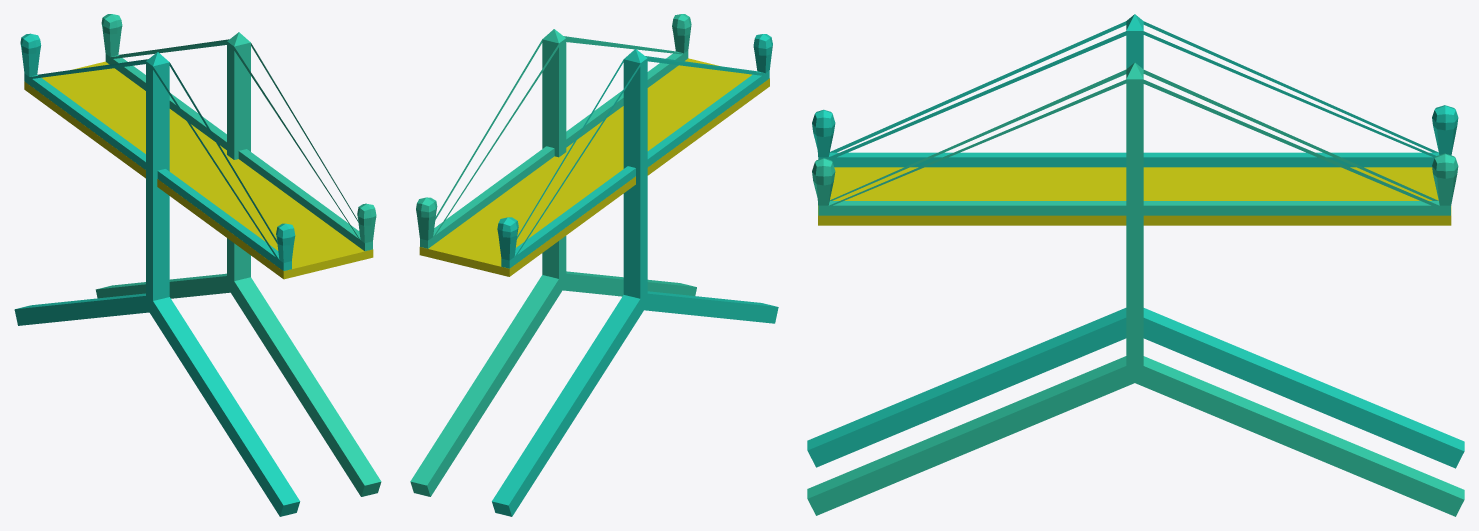
The model's file is Puente.fbx.
The picture shows the model from 3 angles, left to right: view 1: azimuth 30°, elevation 25°; view 2: azimuth 150°, elevation 25°; view 3: azimuth 270°, elevation 25°; orthographic projection. The views are drawn at different scales.
Visible parts, largest first — view 1: Cube.002, Cube.001, Cube; view 2: Cube.002, Cube.001, Cube; view 3: Cube.001, Cube.002, Cube.
Part boxes in pixels (box(x1,y1,x2,y2)): Cube.002: box(14, 33, 300, 516); Cube.001: box(95, 14, 381, 496); Cube: box(24, 61, 373, 279); Cube.002: box(492, 34, 778, 516); Cube.001: box(410, 14, 696, 496); Cube: box(419, 58, 769, 276); Cube.001: box(807, 62, 1464, 516); Cube.002: box(807, 14, 1464, 468); Cube: box(818, 167, 1451, 225).
Size of the model in its own units: 223 by 787 by 1042.
